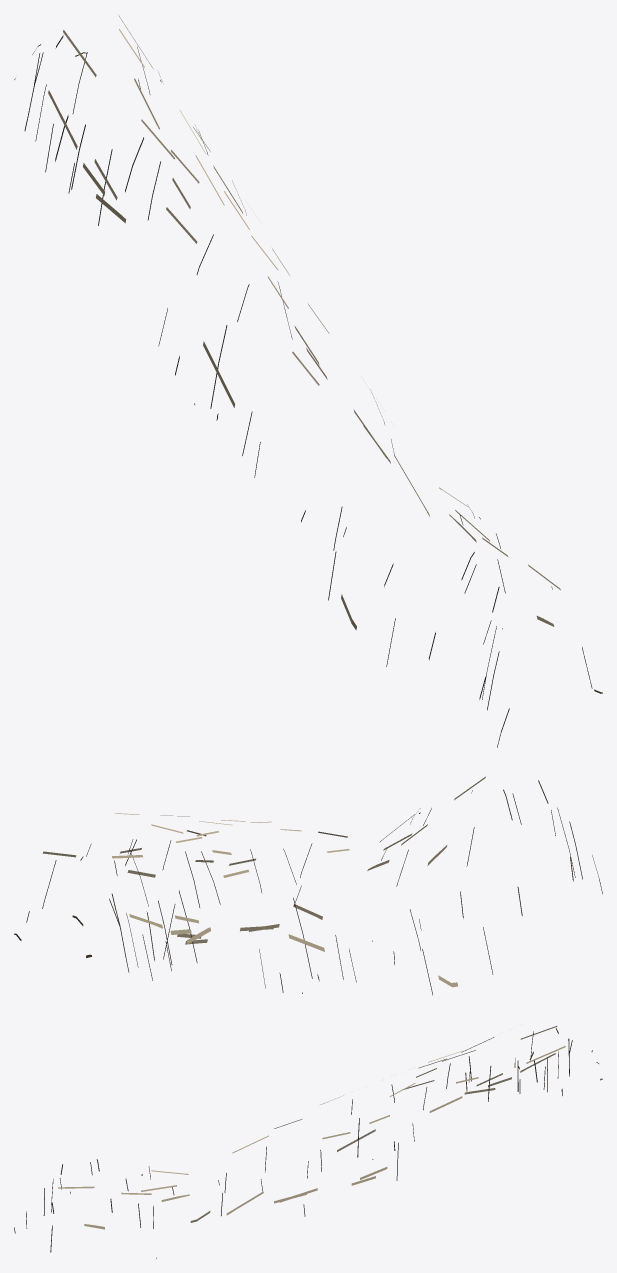
The model's file is dam_east_lane_fin_detail1.glb.
3 views of the same model, one above another, from view 1: azimuth 30°, elevation 25°; view 2: azimuth 150°, elevation 25°; view 3: azimuth 270°, elevation 25° (orthographic). The views are drawn at different scales.
Parts seen in each view (by area): view 1: dam_east_lane_fin_detail1; view 2: dam_east_lane_fin_detail1; view 3: dam_east_lane_fin_detail1.
Part boxes in pixels (x1,y1,x2,y2): dam_east_lane_fin_detail1: (14,15,602,747); dam_east_lane_fin_detail1: (14,776,602,995); dam_east_lane_fin_detail1: (14,1026,602,1258).
Size of the model in its own units: 20 by 62.06 by 150.
